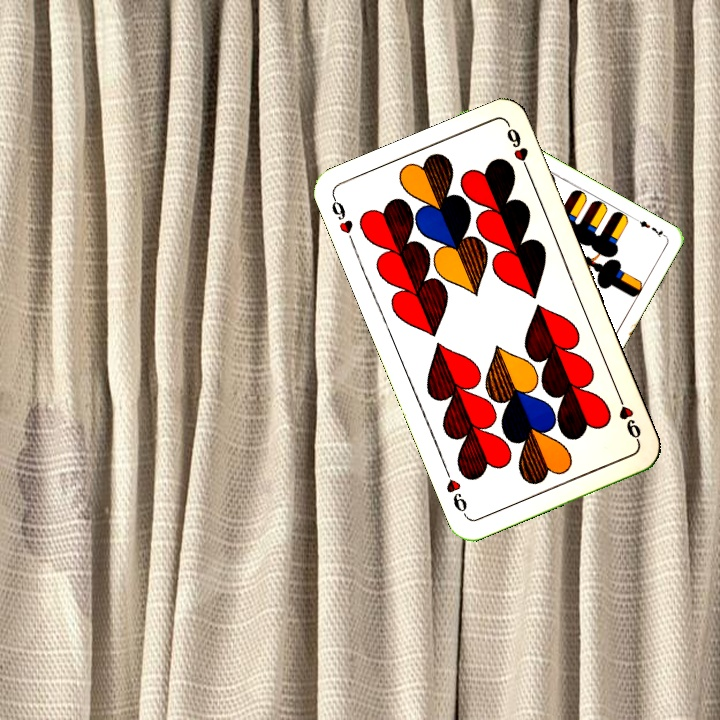E7: (631, 215, 669, 240)
H9: (327, 193, 358, 250), (613, 390, 644, 446)
